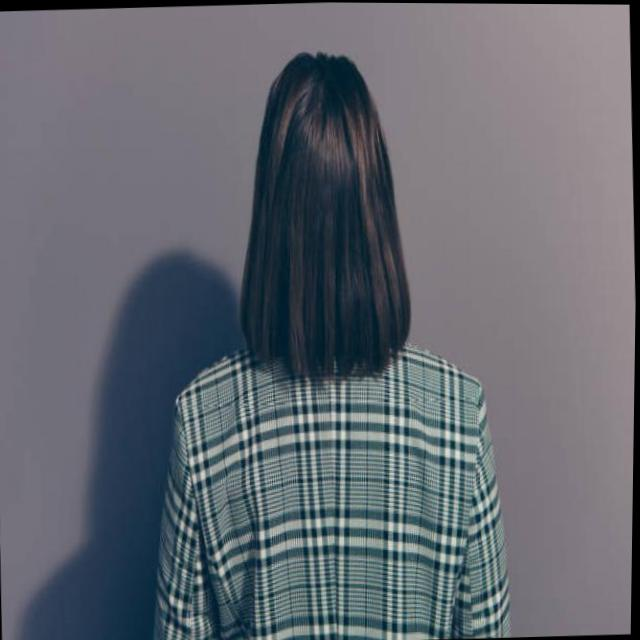no helmet: (250, 33, 406, 387)
